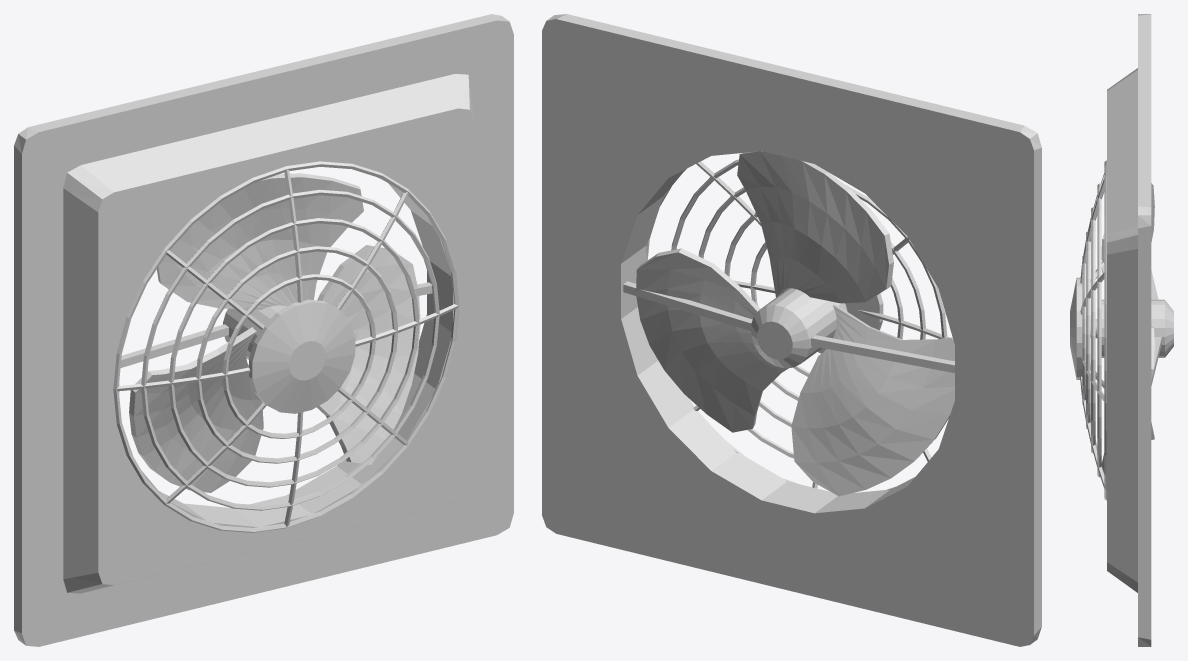
The model's file is win_fan.obj.
3 renders of one model, left to right at view 1: azimuth 30°, elevation 25°; view 2: azimuth 150°, elevation 25°; view 3: azimuth 270°, elevation 25°, orthographic. The views are drawn at different scales.
Visible parts, largest first — view 1: Window_Fan; view 2: Window_Fan; view 3: Window_Fan.
Boxes of the visible parts, x1,y1,x2,y2 form: Window_Fan: (14,14,513,646); Window_Fan: (542,14,1041,646); Window_Fan: (1070,14,1173,646).
Bounding box in the file's own units: 60 × 60 × 12.84.
